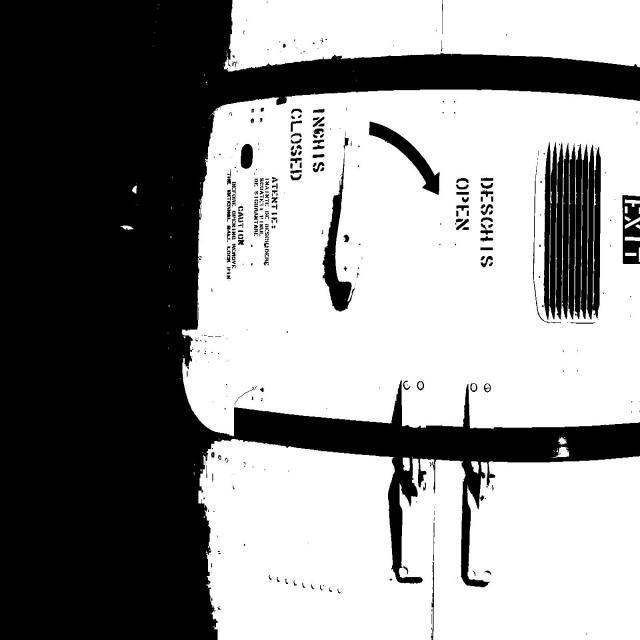crack: (234, 384, 266, 403)
